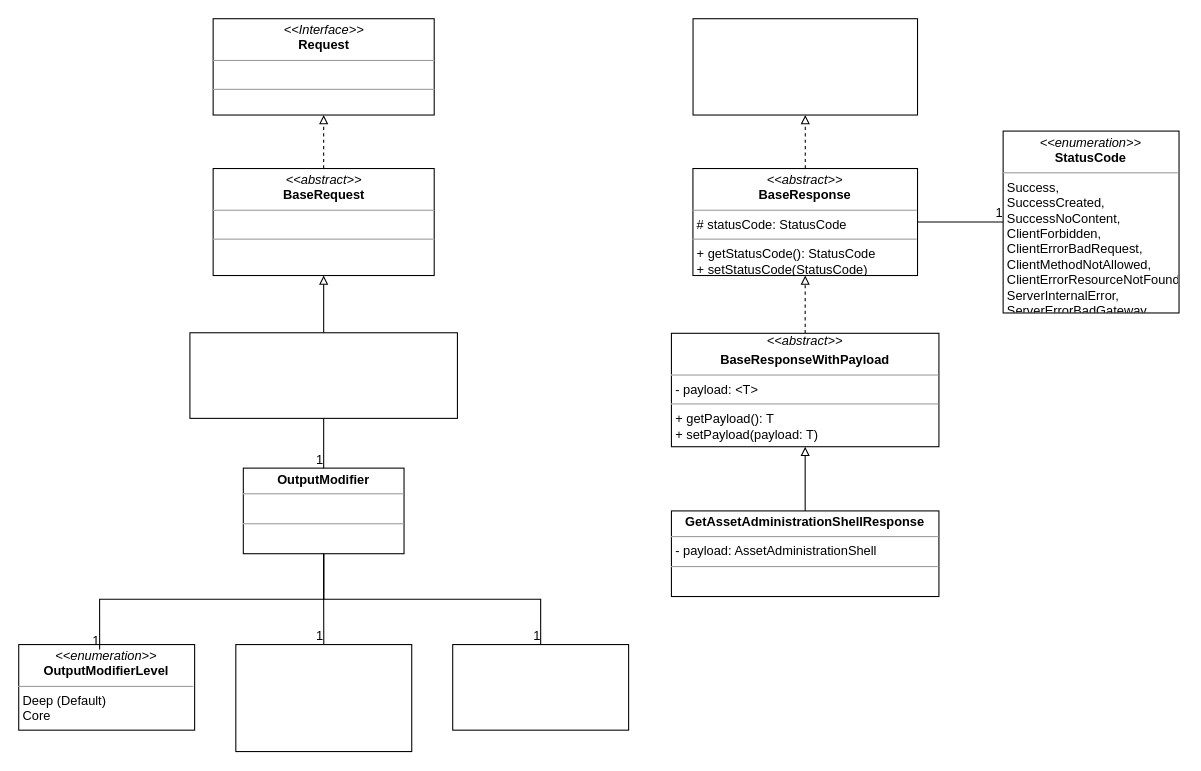
This 1201x771 diagram has some shape labels left out. Here are the shapes that lost their labels. From the top down, the centre of each, then its label:
(805,66): <<Interface>> Response
(323,375): GetAssetAdministrationShellRequest
(323,697): <<enumeration>> OutputModifier Content Normal (Default) Value Reference Path
(540,686): <<enumeration>> OutputModifier Extent WithoutBLOBValue (Default) WithBLOBValue
